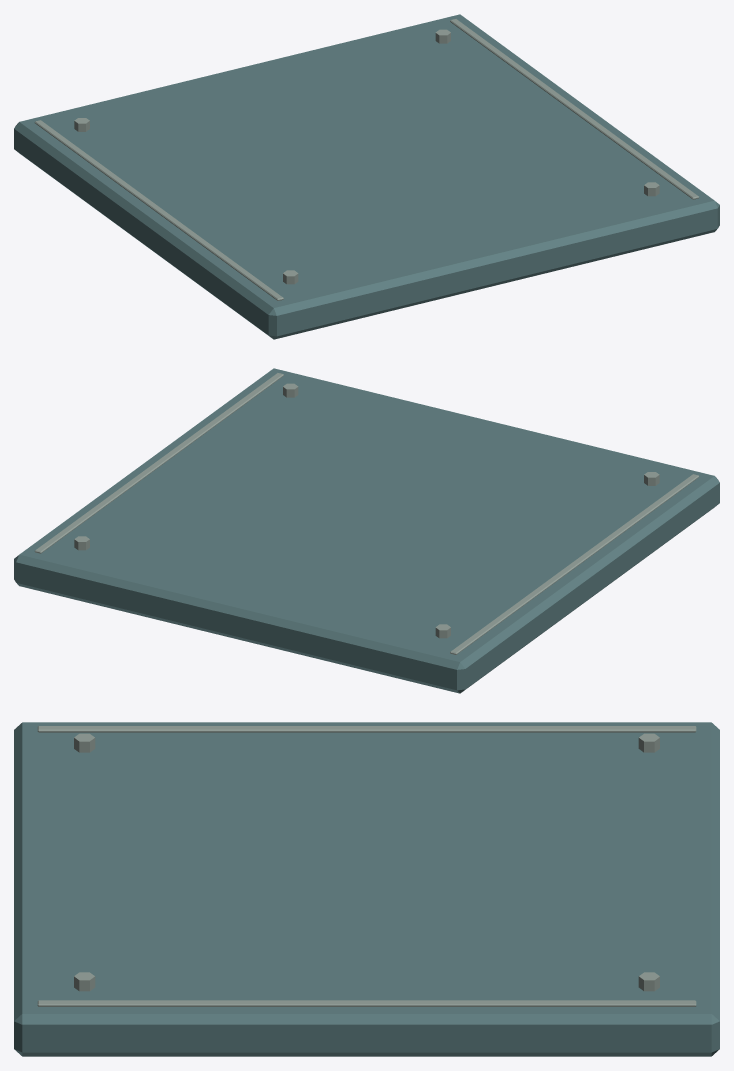
Rendered from Floor_Tile_3m.glb.
3 renders of one model, top to bottom at view 1: azimuth 30°, elevation 25°; view 2: azimuth 150°, elevation 25°; view 3: azimuth 270°, elevation 25°, orthographic. The views are drawn at different scales.
Visible parts, largest first — view 1: Floor_Tile_3m; view 2: Floor_Tile_3m; view 3: Floor_Tile_3m.
Part boxes in pixels (bbox=[...]): Floor_Tile_3m: bbox=[14, 14, 719, 339]; Floor_Tile_3m: bbox=[14, 368, 719, 693]; Floor_Tile_3m: bbox=[14, 722, 719, 1056].
Bounding box in the file's own units: 3 × 0.2525 × 3.
